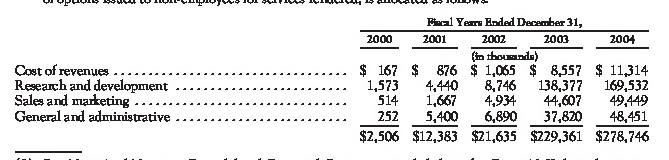table: (0, 0, 669, 160)
